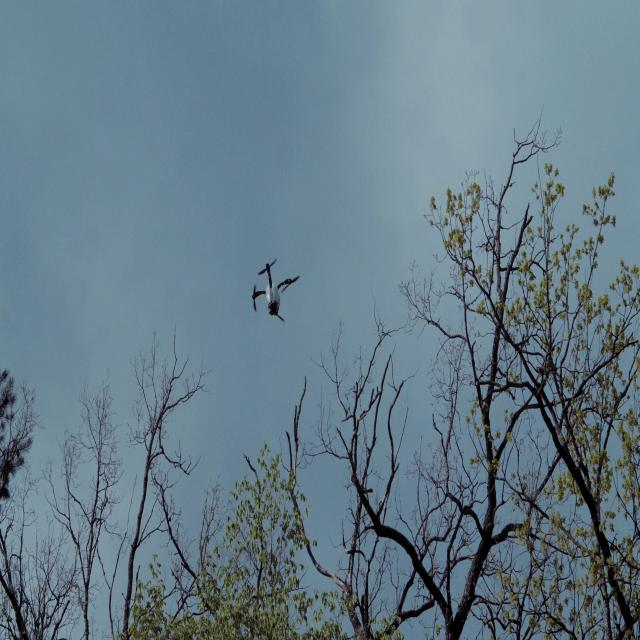Drone: (251, 251, 305, 331)
